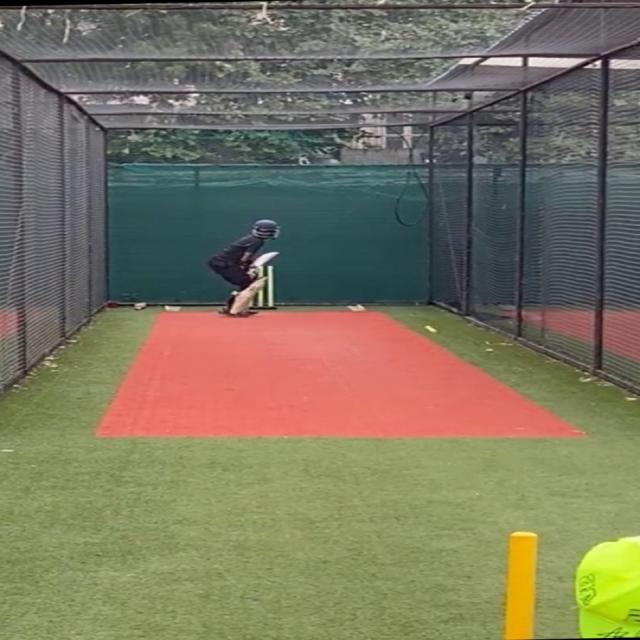stump: (257, 264, 279, 310)
